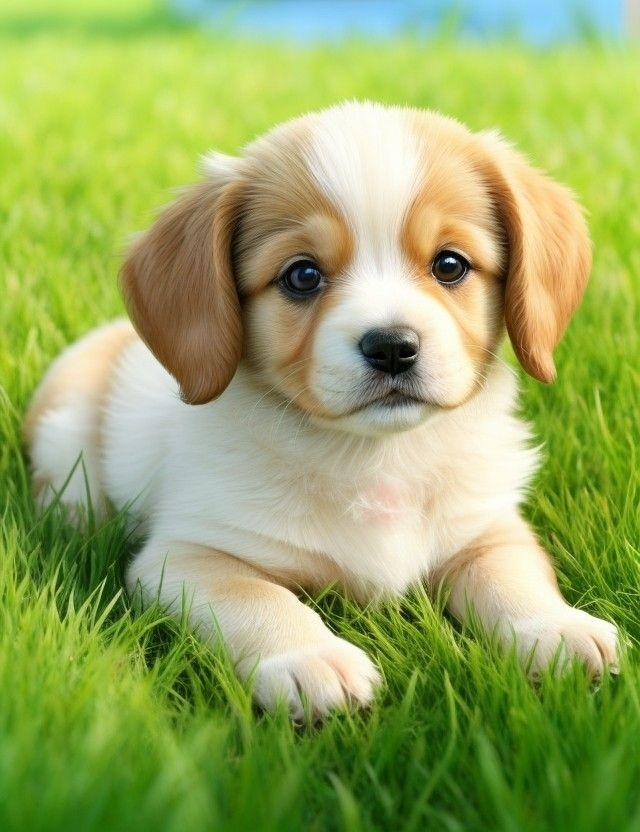puppy-dog: (22, 99, 622, 732)
